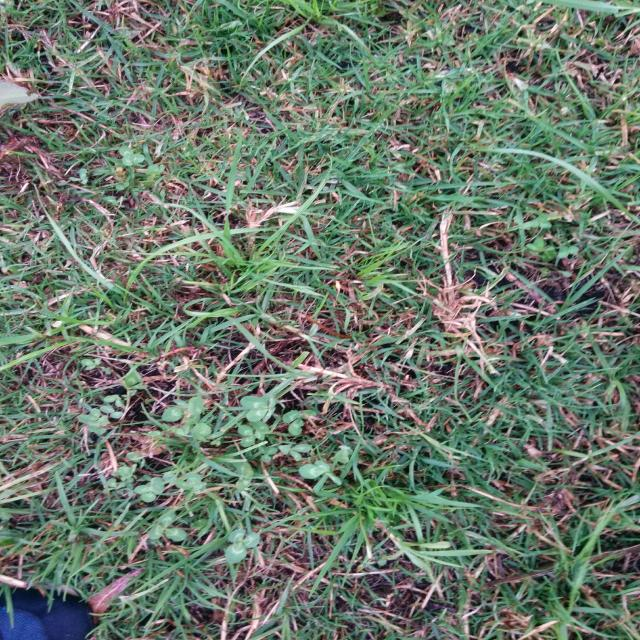Four Leaf Clover: (240, 392, 276, 423)
